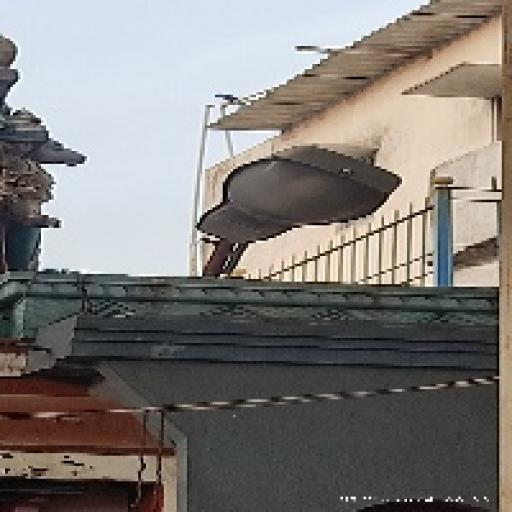Not Working: (180, 134, 403, 262)
